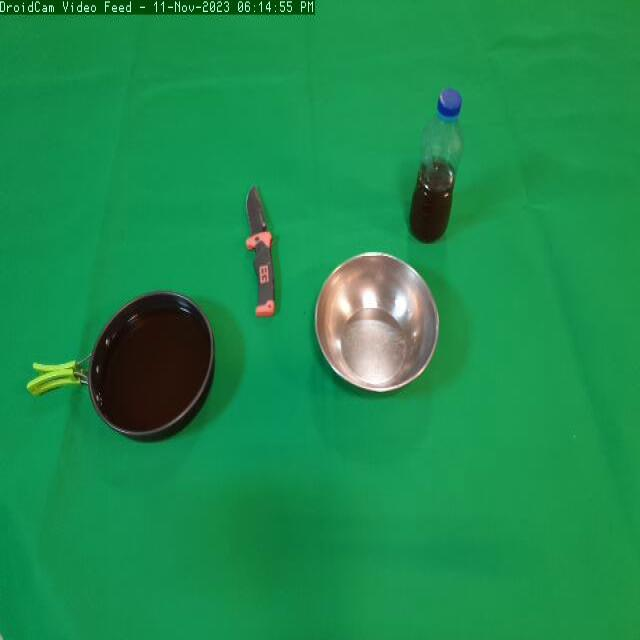bowl: (309, 250, 443, 406)
fullbottle: (405, 85, 470, 257)
fullpan: (19, 281, 225, 450)
knife: (238, 175, 291, 324)
